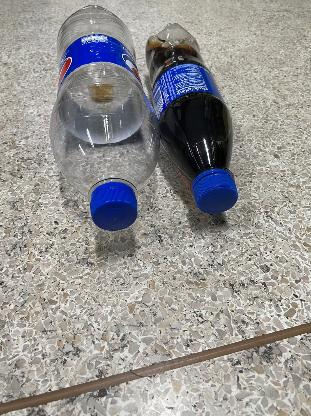Plastic Bottle: (50, 1, 162, 233), (146, 24, 238, 216)
